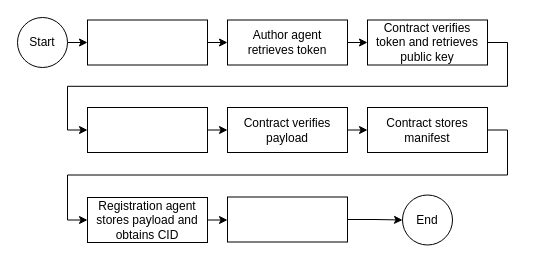
Image size: 533x263. Some labels were removed from this diagram. The shapes that lost their labels are listed below. From the top down, each one's centre as x and y in pixels, then its label:
point (147, 42): Author sends update
point (147, 129): Contract verifies manifest
point (287, 219): Contract stores CID
